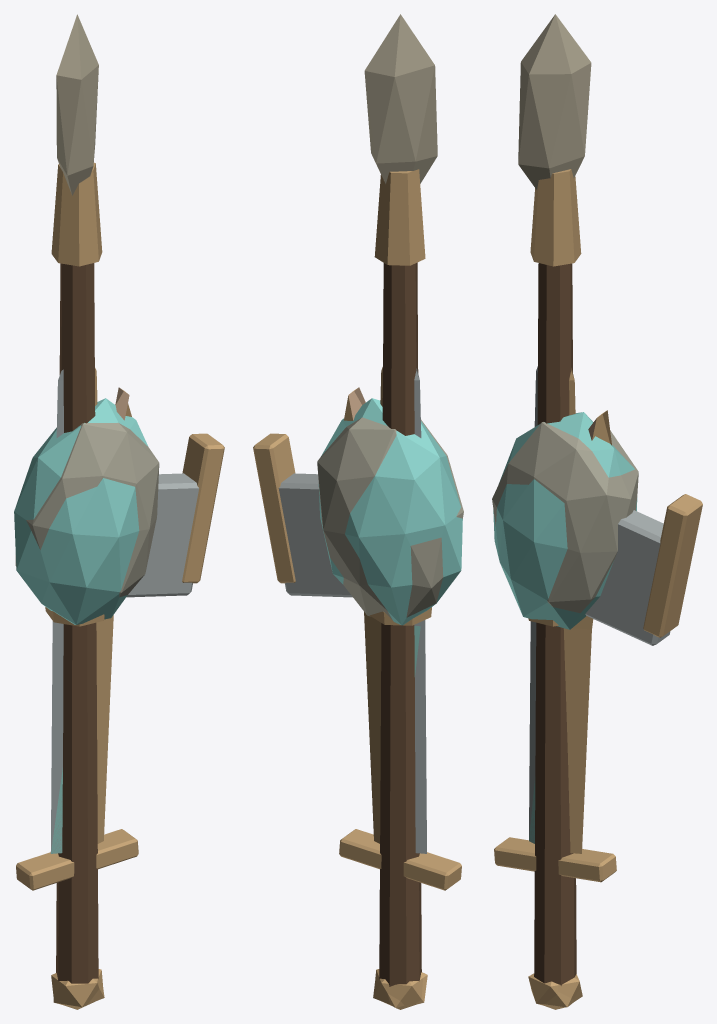
The model's file is weapons.glb.
3 views of the same model, side by side, from view 1: azimuth 30°, elevation 25°; view 2: azimuth 150°, elevation 25°; view 3: azimuth 330°, elevation 25° (orthographic).
Parts seen in each view (by area): view 1: haft.006, striking head.001, striking head, point, wedge, socket, edge, forged blade.004, forged blade.001, crossguard, crossguard.003, pommel.004 (+1 smaller); view 2: haft.006, striking head.001, striking head, point, wedge, socket, edge, forged blade.004, forged blade.001, crossguard, crossguard.003, pommel; view 3: haft.006, striking head, striking head.001, point, wedge, forged blade.004, edge, socket, crossguard, forged blade.001, pommel.004.
Boxes of the visible parts, x1=… form: haft.006: x1=56, y1=263, x2=98, y2=983; striking head.001: x1=14, y1=398, x2=148, y2=624; striking head: x1=15, y1=422, x2=159, y2=597; point: x1=56, y1=14, x2=98, y2=195; wedge: x1=126, y1=473, x2=199, y2=597; socket: x1=51, y1=162, x2=102, y2=266; edge: x1=182, y1=433, x2=224, y2=583; forged blade.004: x1=96, y1=387, x2=131, y2=843; forged blade.001: x1=50, y1=368, x2=97, y2=853; crossguard: x1=16, y1=829, x2=138, y2=890; crossguard.003: x1=31, y1=833, x2=124, y2=886; pommel.004: x1=53, y1=978, x2=99, y2=1007; haft.006: x1=379, y1=262, x2=421, y2=986; striking head.001: x1=318, y1=398, x2=462, y2=625; striking head: x1=317, y1=417, x2=463, y2=620; point: x1=364, y1=14, x2=437, y2=183; wedge: x1=278, y1=473, x2=352, y2=597; socket: x1=374, y1=169, x2=425, y2=265; edge: x1=253, y1=433, x2=295, y2=583; forged blade.004: x1=344, y1=387, x2=381, y2=843; forged blade.001: x1=380, y1=367, x2=426, y2=853; crossguard: x1=339, y1=829, x2=461, y2=890; crossguard.003: x1=353, y1=833, x2=446, y2=886; pommel: x1=375, y1=969, x2=422, y2=1009; haft.006: x1=534, y1=263, x2=576, y2=985; striking head: x1=492, y1=422, x2=638, y2=613; striking head.001: x1=493, y1=412, x2=637, y2=629; point: x1=518, y1=14, x2=591, y2=189; wedge: x1=585, y1=510, x2=670, y2=645; forged blade.004: x1=563, y1=410, x2=611, y2=853; edge: x1=643, y1=494, x2=702, y2=637; socket: x1=530, y1=169, x2=581, y2=266; crossguard: x1=494, y1=837, x2=616, y2=882; forged blade.001: x1=529, y1=366, x2=575, y2=843; pommel.004: x1=528, y1=974, x2=557, y2=1005.
Bounding box in the file's own units: 0.5145 × 2.44 × 0.2798.
